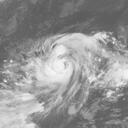cyclone: (28, 32, 91, 92)
